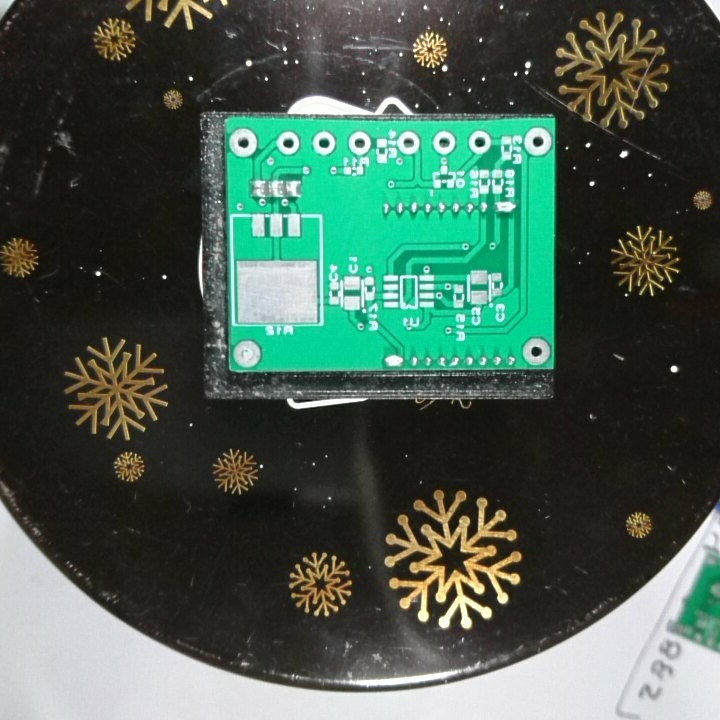F: (522, 126, 553, 160), (228, 127, 259, 158), (522, 335, 552, 367), (231, 340, 262, 368), (395, 130, 422, 156), (431, 130, 459, 155), (312, 130, 337, 158), (467, 129, 491, 158), (347, 131, 372, 158), (277, 129, 301, 156)
P: (382, 352, 405, 371), (493, 198, 517, 216)
